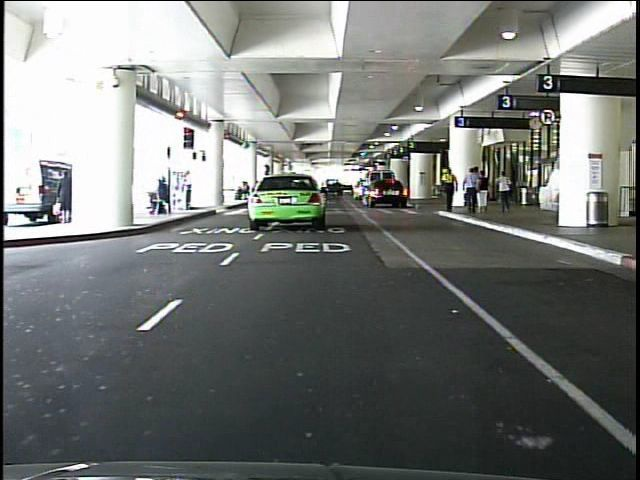person: (57, 168, 84, 226), (437, 163, 461, 217), (490, 172, 514, 217), (460, 164, 480, 214), (477, 170, 493, 216), (183, 169, 199, 214)
